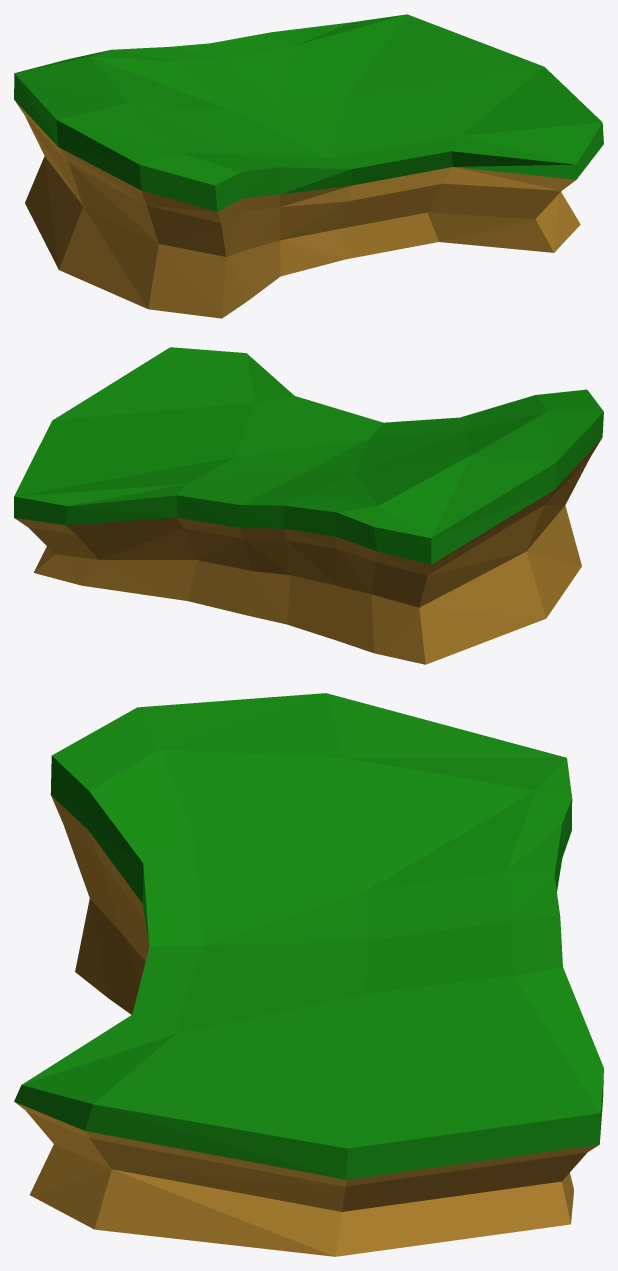
The model's file is Terrain_Part.obj.
3 renders of one model, top to bottom at view 1: azimuth 30°, elevation 25°; view 2: azimuth 150°, elevation 25°; view 3: azimuth 270°, elevation 25°, orthographic. The views are drawn at different scales.
Visible parts, largest first — view 1: Plane; view 2: Plane; view 3: Plane.
Part boxes in pixels (x1,y1,x2,y2): Plane: (14, 14, 603, 318); Plane: (14, 347, 603, 664); Plane: (14, 693, 603, 1256).
Bounding box in the file's own units: 2.76 × 0.8631 × 1.97.
